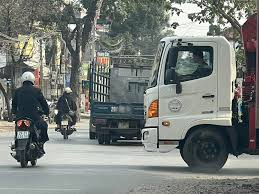Bien-so: (17, 130, 28, 139), (60, 120, 69, 126)
